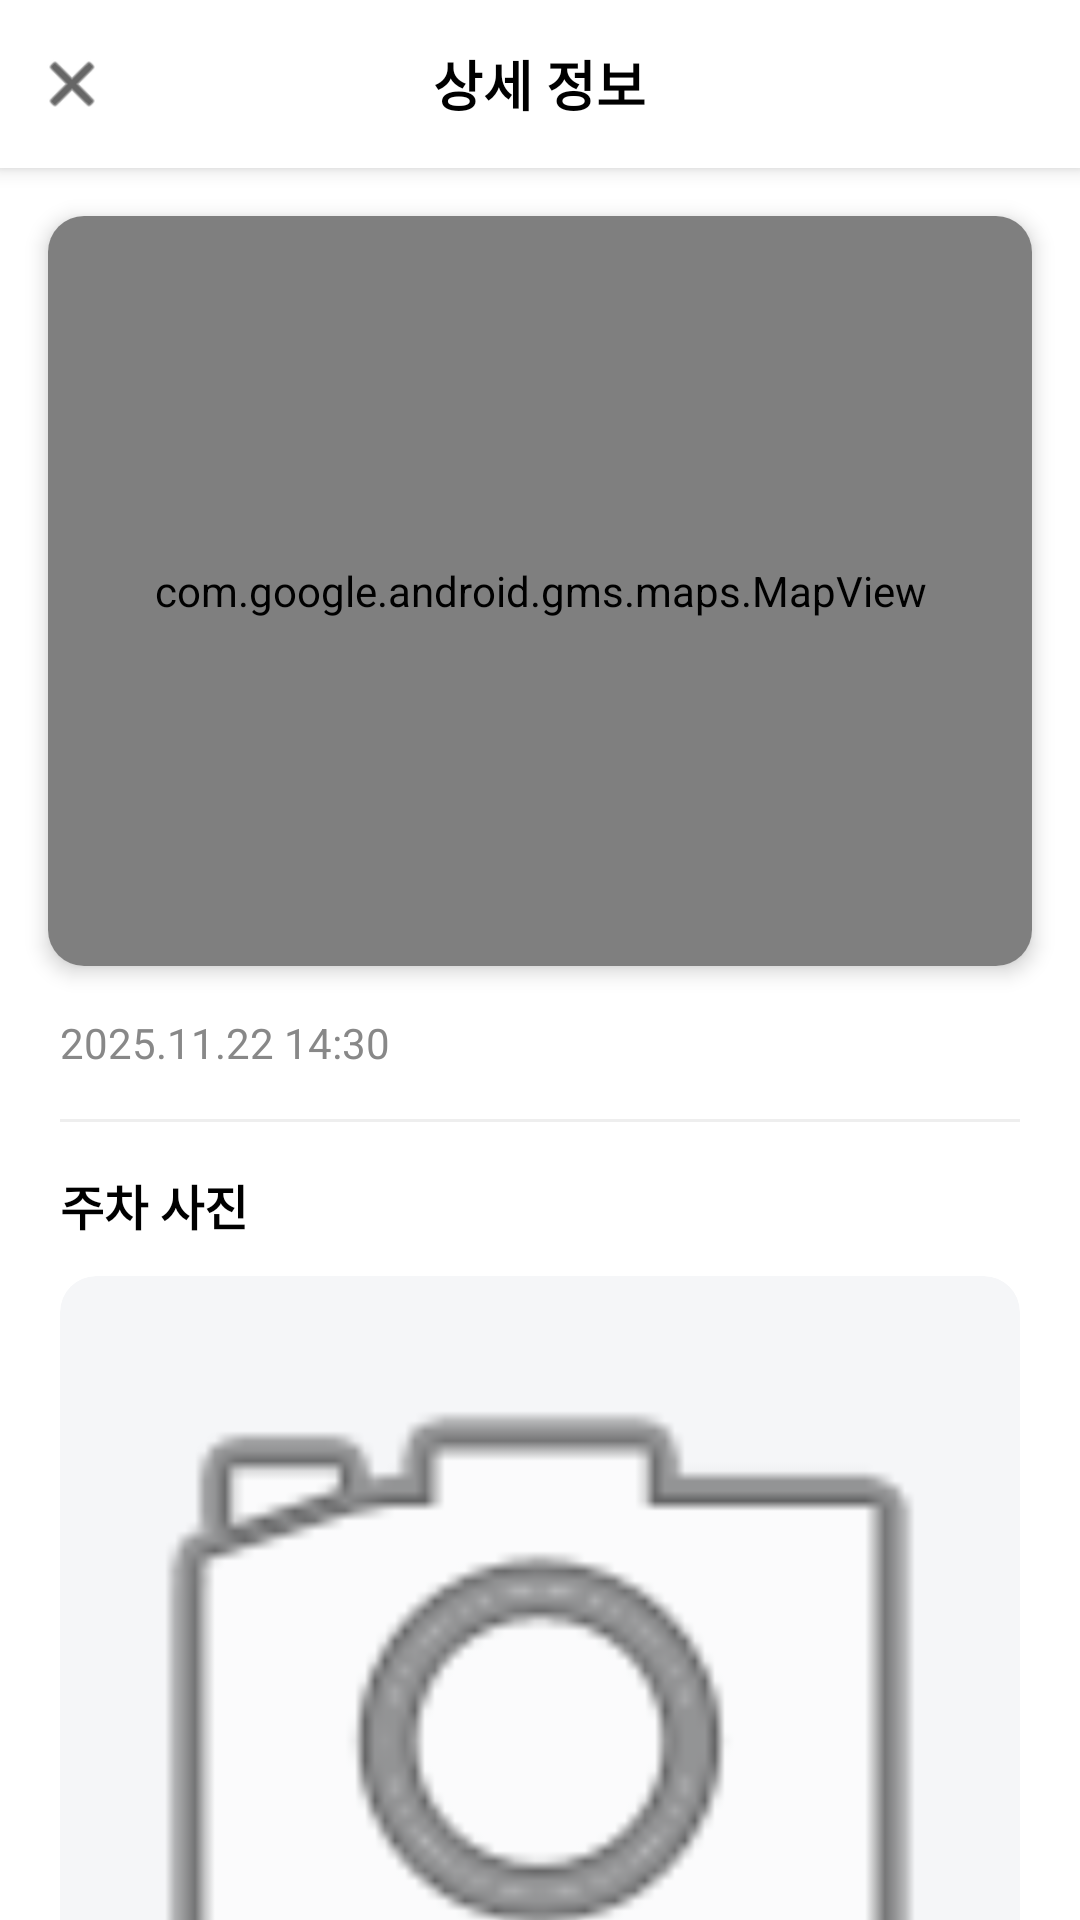

Screen size 1080x1920. Icon name, then its box in pixels as (x1, y1, x2, y2):
close clear cancel: (49, 61, 95, 107)
